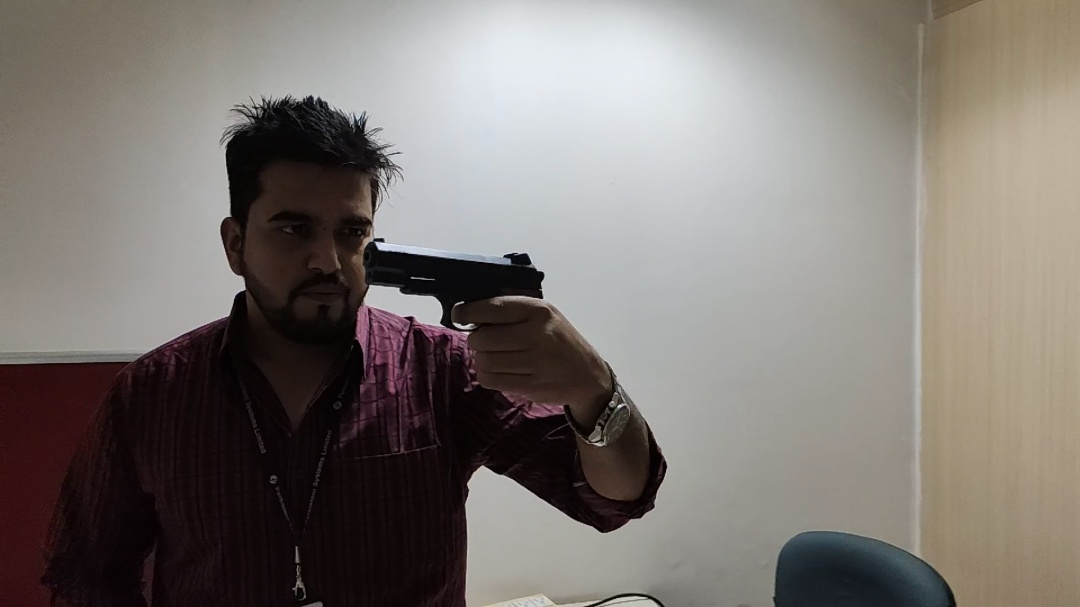gun: (360, 235, 557, 394)
